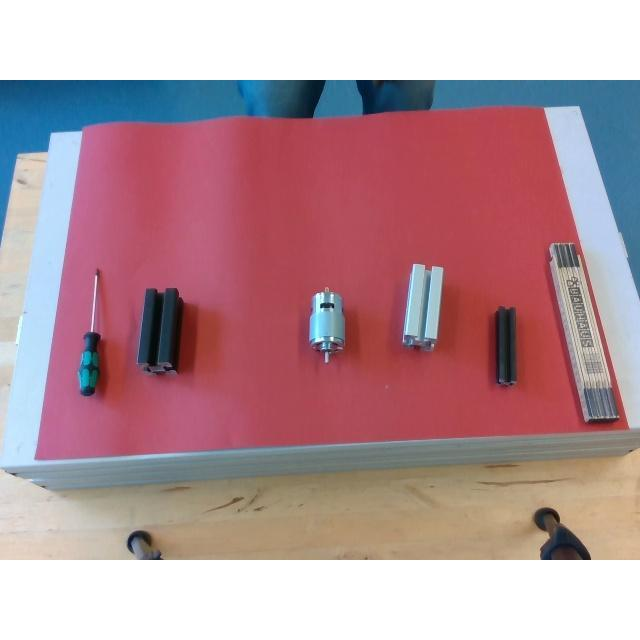F20_20_B: (495, 307, 517, 383)
Motor2: (308, 288, 344, 359)
S40_40_B: (138, 288, 182, 372)
S40_40_G: (402, 264, 442, 348)
Screwdriver: (74, 266, 104, 398)
